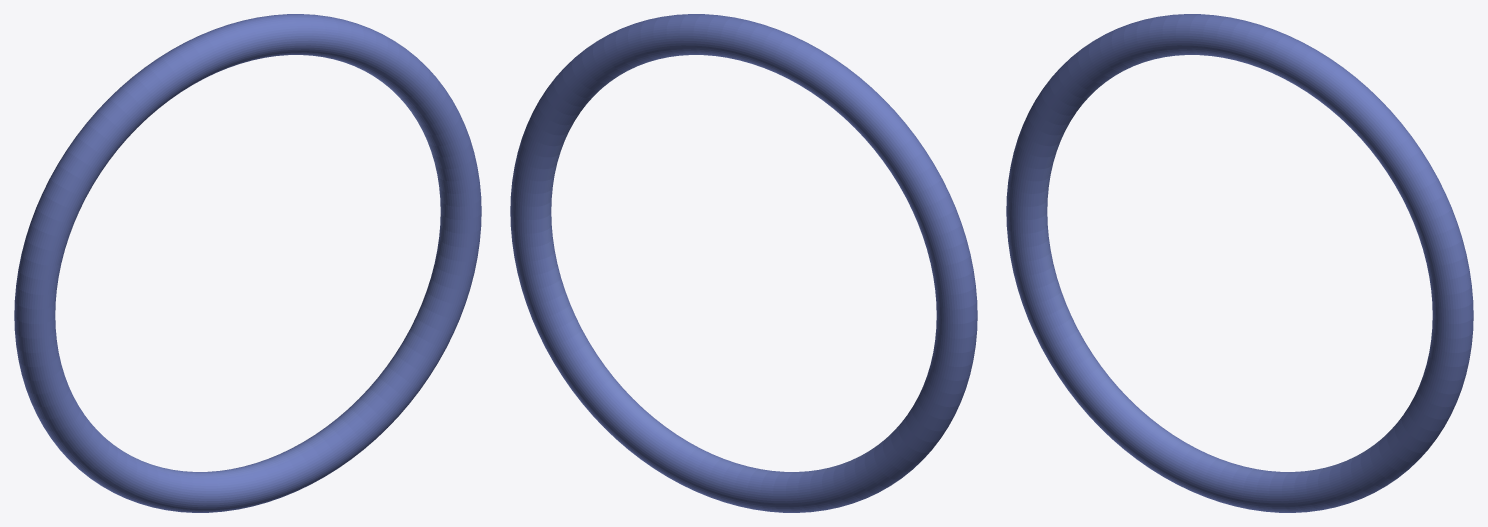
3 views of the same model, side by side, from view 1: azimuth 30°, elevation 25°; view 2: azimuth 150°, elevation 25°; view 3: azimuth 330°, elevation 25° (orthographic).
Parts seen in each view (by area): view 1: world; view 2: world; view 3: world.
Part boxes in pixels (box(x1,y1,x2,y2)): world: box(14, 14, 481, 512); world: box(510, 14, 977, 512); world: box(1006, 14, 1473, 512).
Size of the model in its own units: 26 by 26 by 2.
